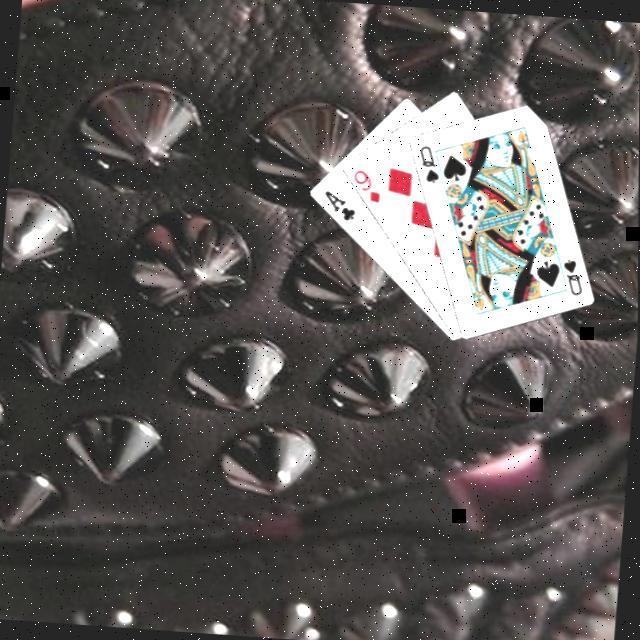9D: (349, 164, 386, 204)
AC: (322, 185, 362, 222)
QS: (415, 139, 446, 185), (560, 252, 590, 296)
